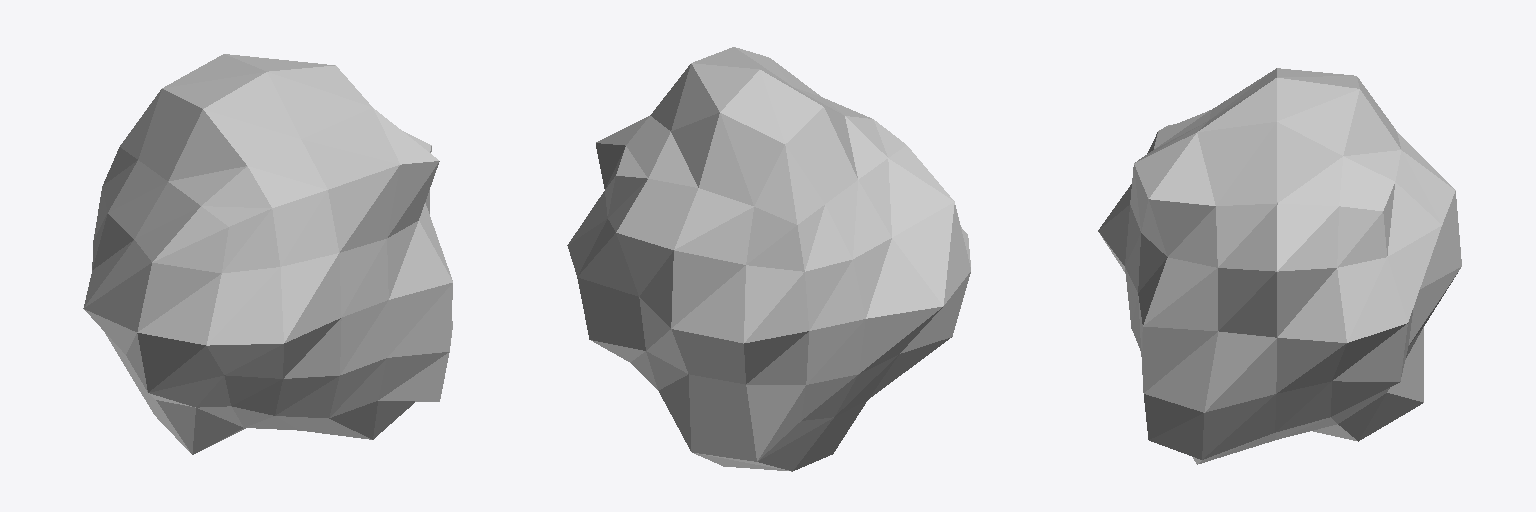
Rendered from blob.obj.
The picture shows the model from 3 angles: view 1: azimuth 30°, elevation 25°; view 2: azimuth 150°, elevation 25°; view 3: azimuth 270°, elevation 25°; orthographic projection.
Visible parts, largest first — view 1: Cube.002_Cube.003; view 2: Cube.002_Cube.003; view 3: Cube.002_Cube.003.
Boxes of the visible parts, x1,y1,x2,y2 form: Cube.002_Cube.003: [83, 54, 452, 454]; Cube.002_Cube.003: [567, 47, 970, 471]; Cube.002_Cube.003: [1098, 68, 1461, 464].
Bounding box in the file's own units: 0.5232 × 0.5258 × 0.4739.